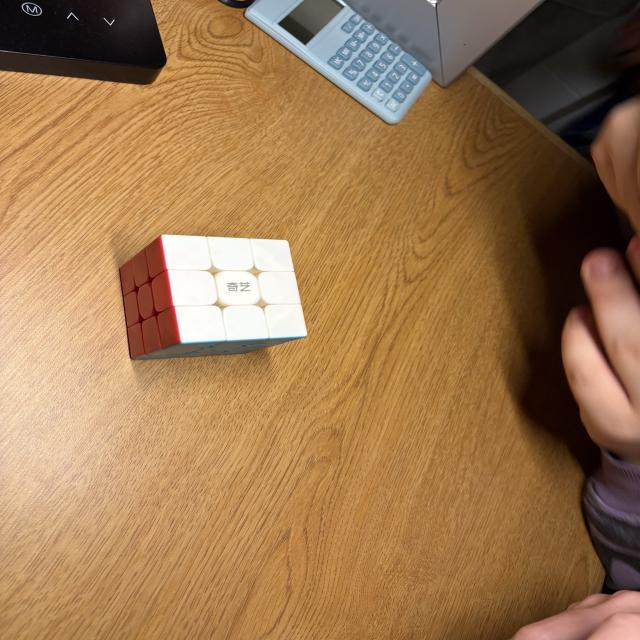Rubiks Cube: (117, 235, 308, 359)
